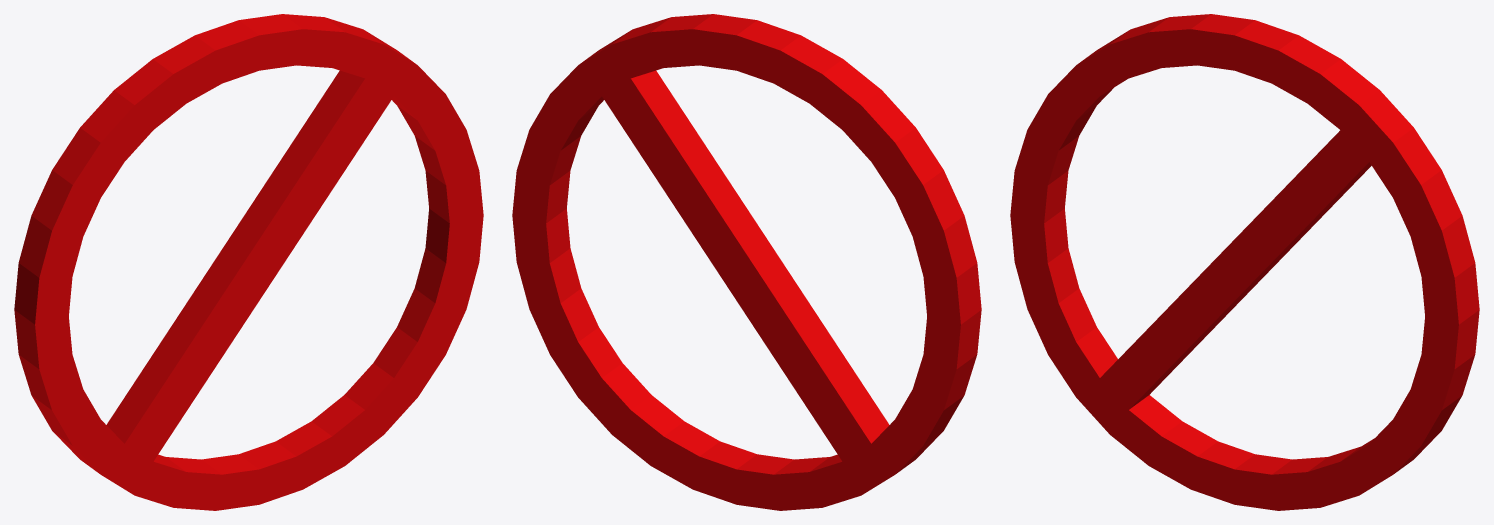
The picture shows the model from 3 angles, left to right: view 1: azimuth 30°, elevation 25°; view 2: azimuth 150°, elevation 25°; view 3: azimuth 330°, elevation 25°; orthographic projection.
Visible parts, largest first — view 1: Circle; view 2: Circle; view 3: Circle.
Part boxes in pixels (x1,y1,x2,y2): Circle: (14, 14, 483, 510); Circle: (512, 14, 981, 510); Circle: (1010, 14, 1479, 510).
Size of the model in its own units: 2 by 2 by 0.16.
